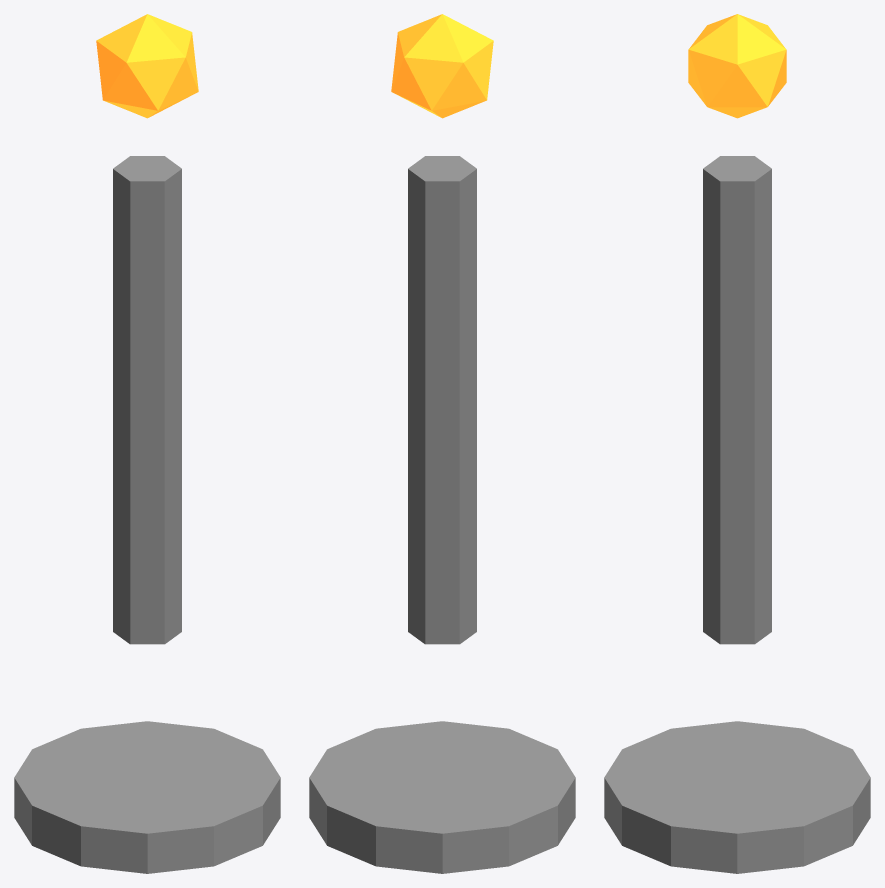
The model's file is button.glb.
3 renders of one model, left to right at view 1: azimuth 30°, elevation 25°; view 2: azimuth 150°, elevation 25°; view 3: azimuth 270°, elevation 25°, orthographic.
Visible parts, largest first — view 1: Icosphere; view 2: Icosphere; view 3: Icosphere.
Part boxes in pixels (x1=…): Icosphere: x1=14, y1=14, x2=280, y2=873; Icosphere: x1=309, y1=14, x2=575, y2=873; Icosphere: x1=604, y1=14, x2=870, y2=873.
Bounding box in the file's own units: 0.3 × 0.9986 × 0.3.
